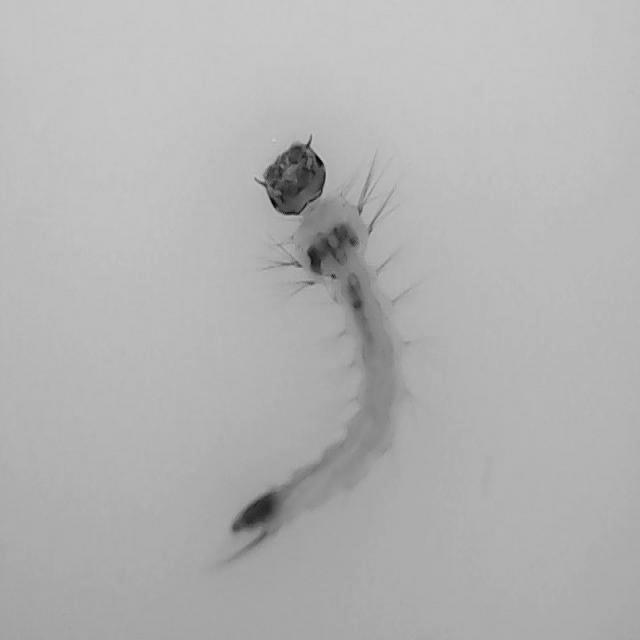larvas: (235, 147, 405, 548)
